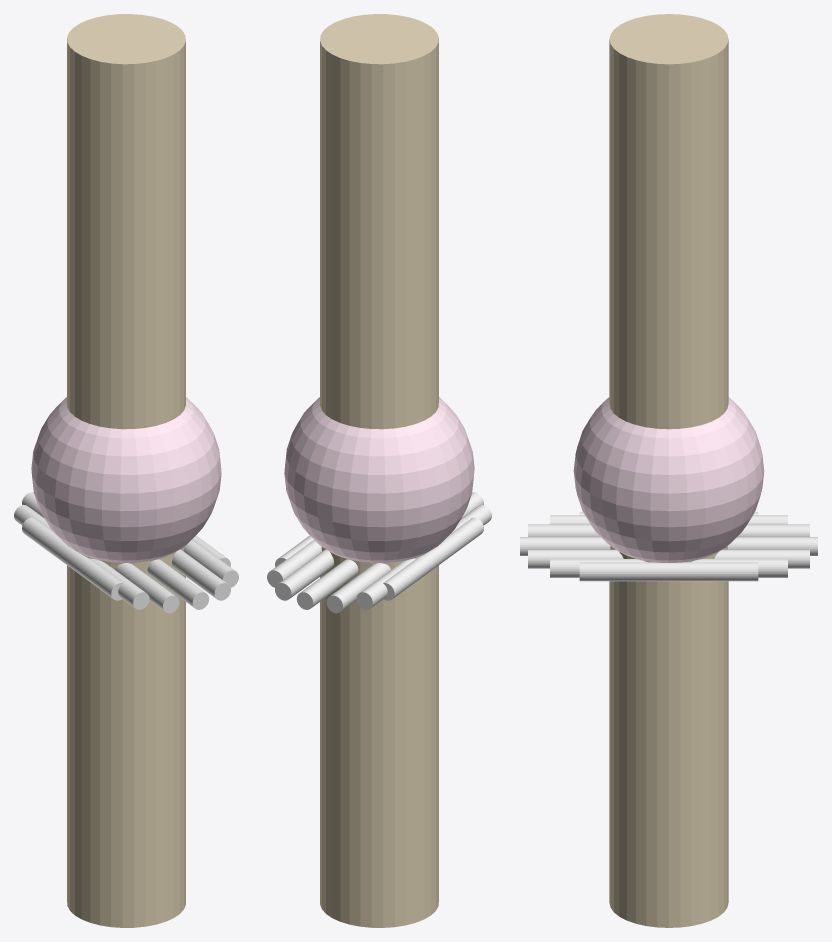
Rendered from cepillo.glb.
3 renders of one model, left to right at view 1: azimuth 30°, elevation 25°; view 2: azimuth 150°, elevation 25°; view 3: azimuth 270°, elevation 25°, orthographic.
Visible parts, largest first — view 1: Handle, Base, Bristle_6, Bristle_9, Bristle_10, Bristle_8, Bristle_11, Bristle_7, Bristle_5; view 2: Handle, Base, Bristle_6, Bristle_3, Bristle_2, Bristle_4, Bristle_1, Bristle_5, Bristle_7; view 3: Handle, Base, Bristle_0, Bristle_3, Bristle_9, Bristle_2, Bristle_10, Bristle_1, Bristle_4, Bristle_8, Bristle_11.
Boxes of the visible parts, box(x1,y1,x2,y2) form: Handle: box(67, 14, 185, 927); Base: box(31, 397, 221, 562); Bristle_6: box(22, 517, 122, 600); Bristle_9: box(147, 559, 209, 609); Bristle_10: box(172, 549, 230, 600); Bristle_8: box(115, 563, 179, 613); Bristle_11: box(184, 542, 238, 587); Bristle_7: box(101, 561, 149, 609); Bristle_5: box(14, 505, 112, 571); Handle: box(320, 14, 438, 927); Base: box(284, 397, 474, 562); Bristle_6: box(383, 517, 483, 600); Bristle_3: box(296, 559, 358, 609); Bristle_2: box(275, 549, 333, 600); Bristle_4: box(326, 563, 390, 613); Bristle_1: box(267, 541, 321, 587); Bristle_5: box(356, 561, 403, 609); Bristle_7: box(393, 505, 491, 571); Handle: box(609, 14, 728, 927); Base: box(573, 397, 764, 562); Bristle_0: box(579, 562, 758, 581); Bristle_3: box(727, 537, 817, 555); Bristle_9: box(520, 537, 610, 555); Bristle_2: box(714, 549, 809, 568); Bristle_10: box(528, 549, 623, 568); Bristle_1: box(609, 559, 787, 577); Bristle_4: box(737, 524, 809, 536); Bristle_8: box(528, 524, 600, 536); Bristle_11: box(550, 559, 728, 577).
Bounding box in the file's own units: 0.16 × 0.8 × 0.25.
